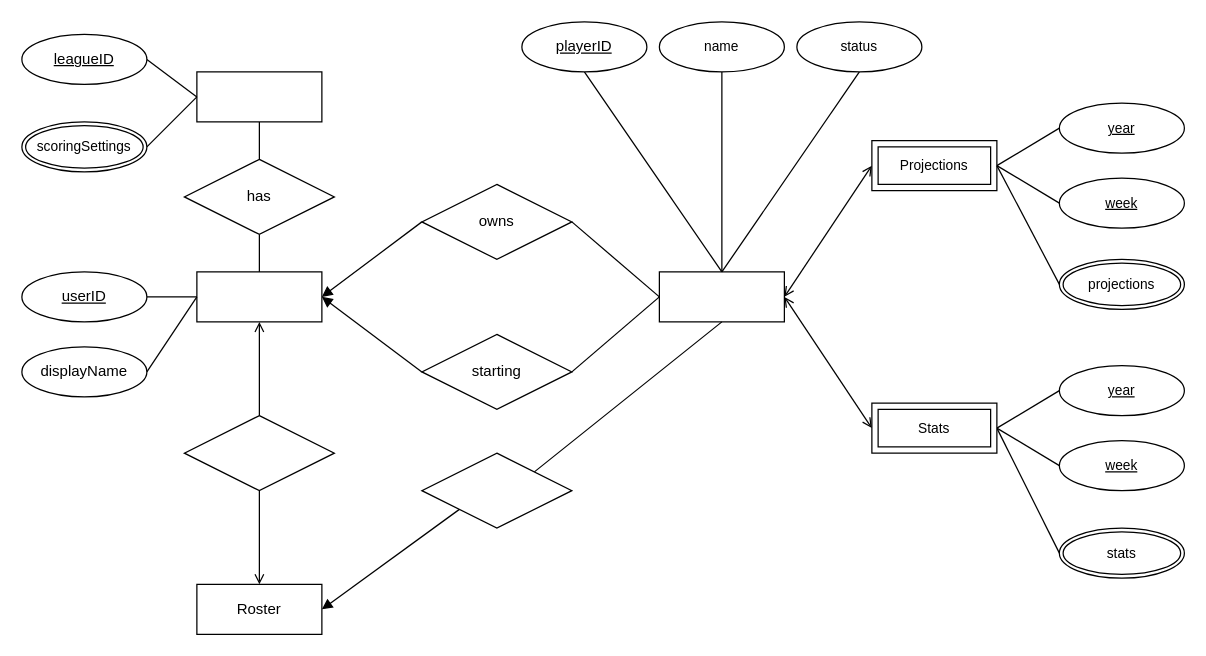
This 1206x656 diagram has some shape labels left out. Each missing label, with the centre of its shape:
contains: [496,490]
League: [259,96]
manages: [258,452]
Player: [721,296]
User: [259,296]
